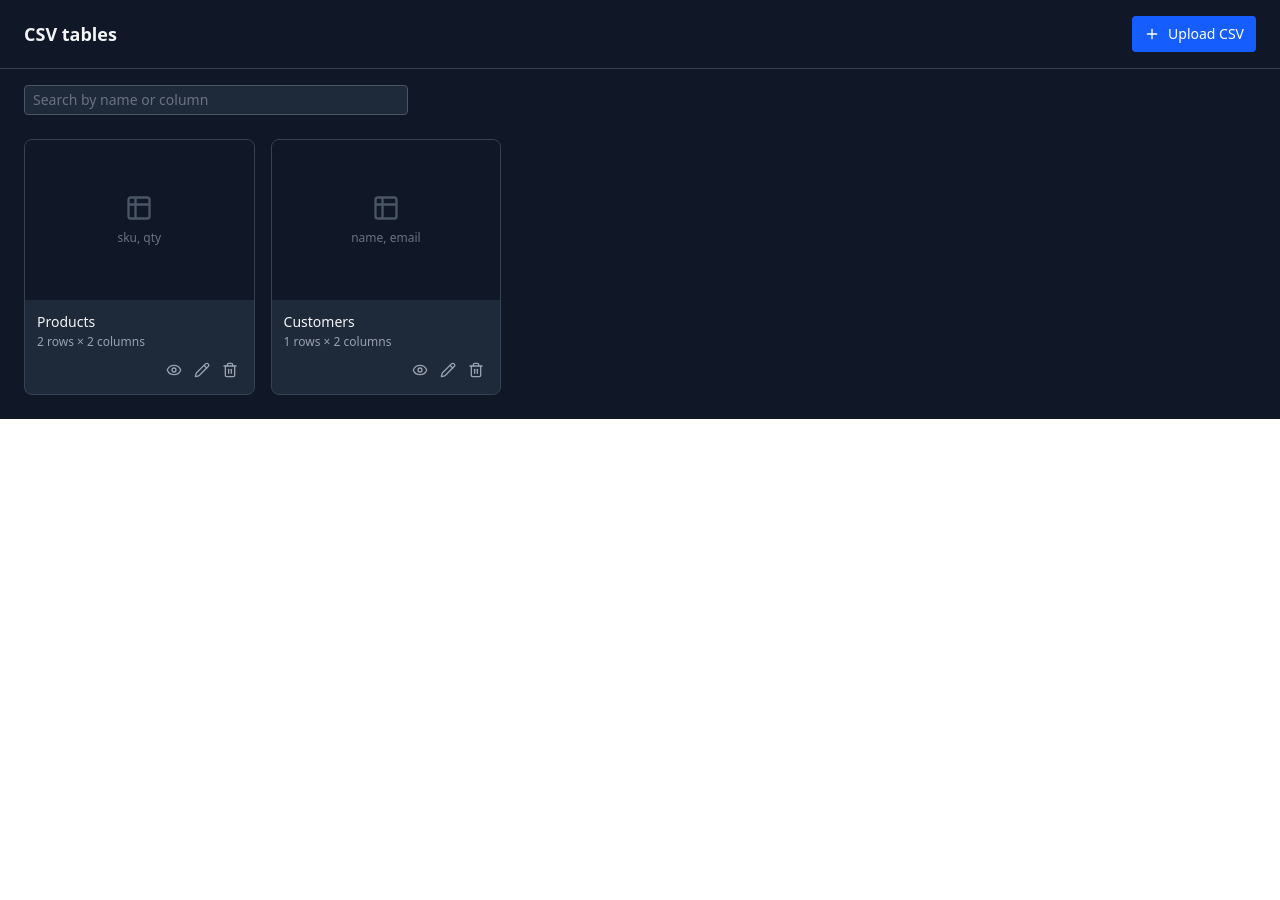
Scenario: CsvSection › renames a table through the rename dialog
Expected: the text "Products" is shown, [37,312,95,332]
Click the button named "Rename" below "2 rows × 2 columns" at (202, 370), box [190,358,214,382]
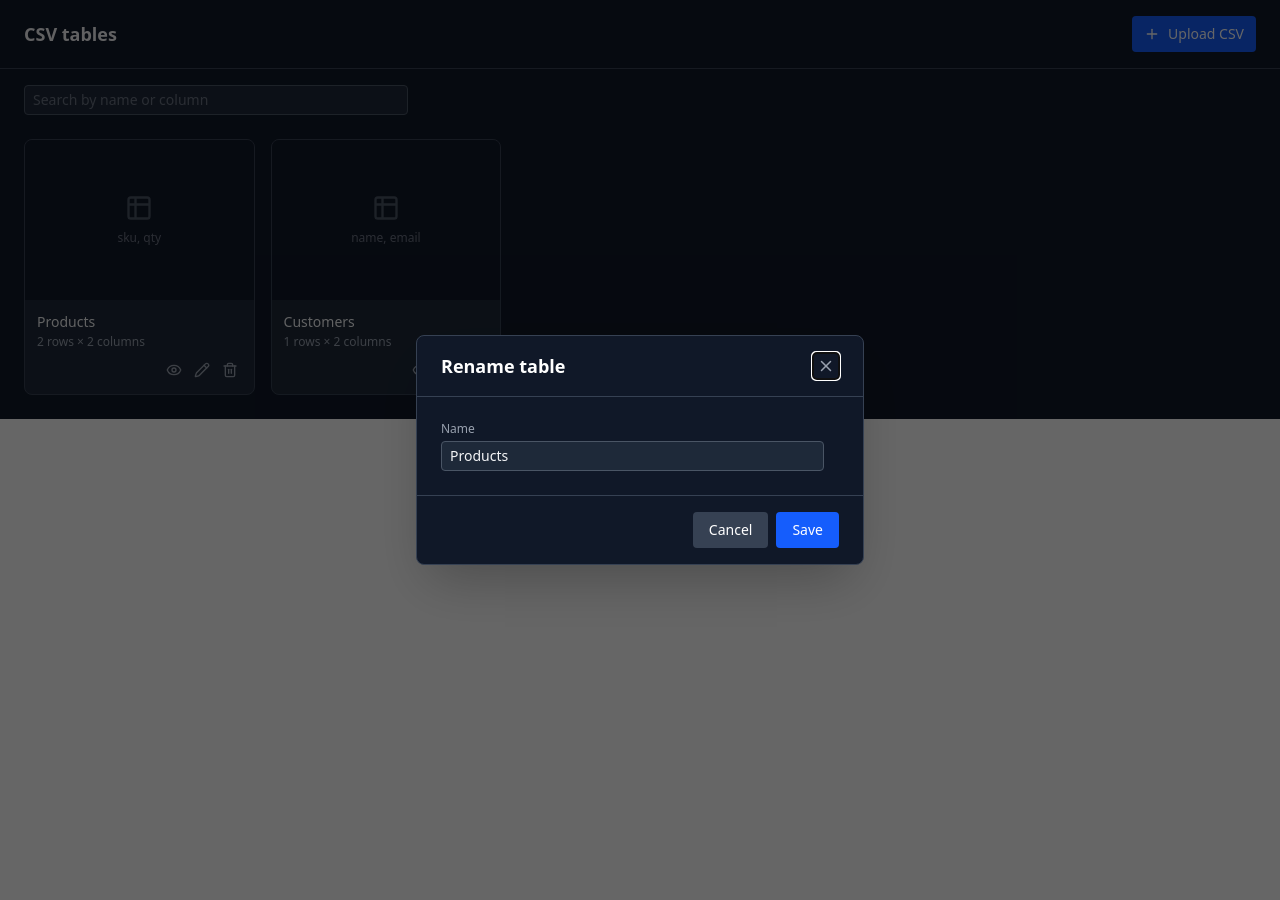
Replace the text in the field labelled "Name" with "Catalog" at (632, 456), box [441,441,824,471]
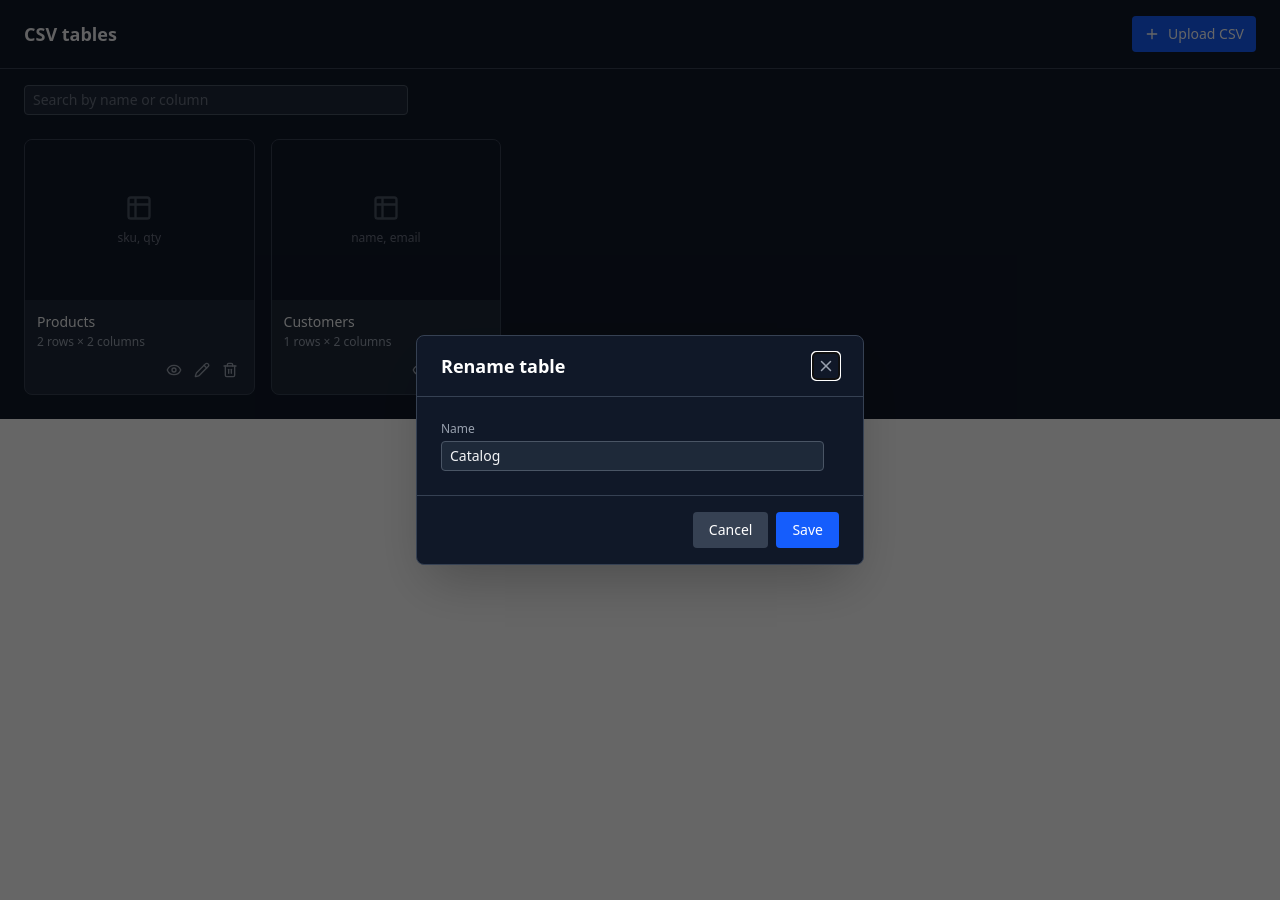
Click the button "Save" at (808, 530), box [776,512,839,548]
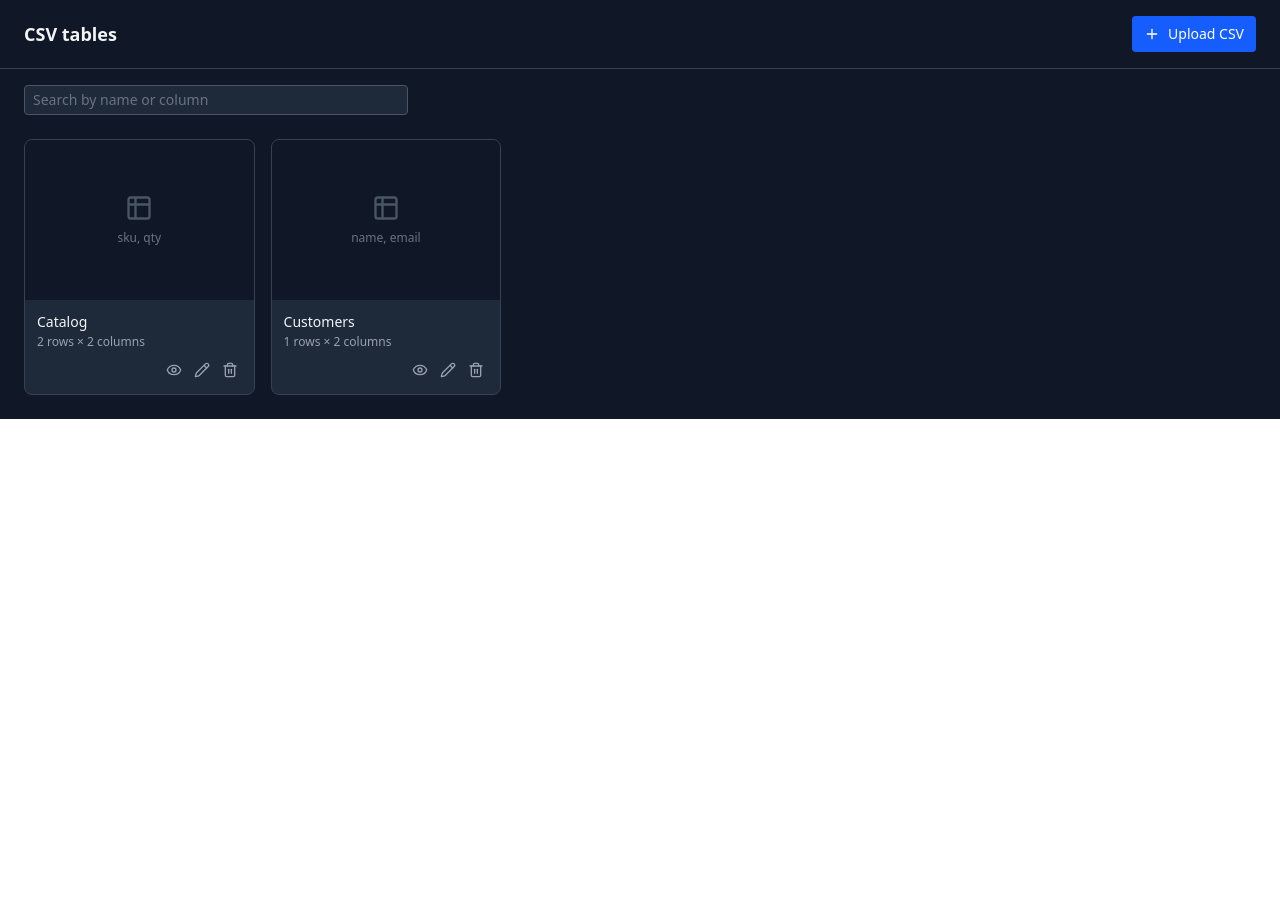
Now the text "Catalog" is shown, box [37,312,87,332]
